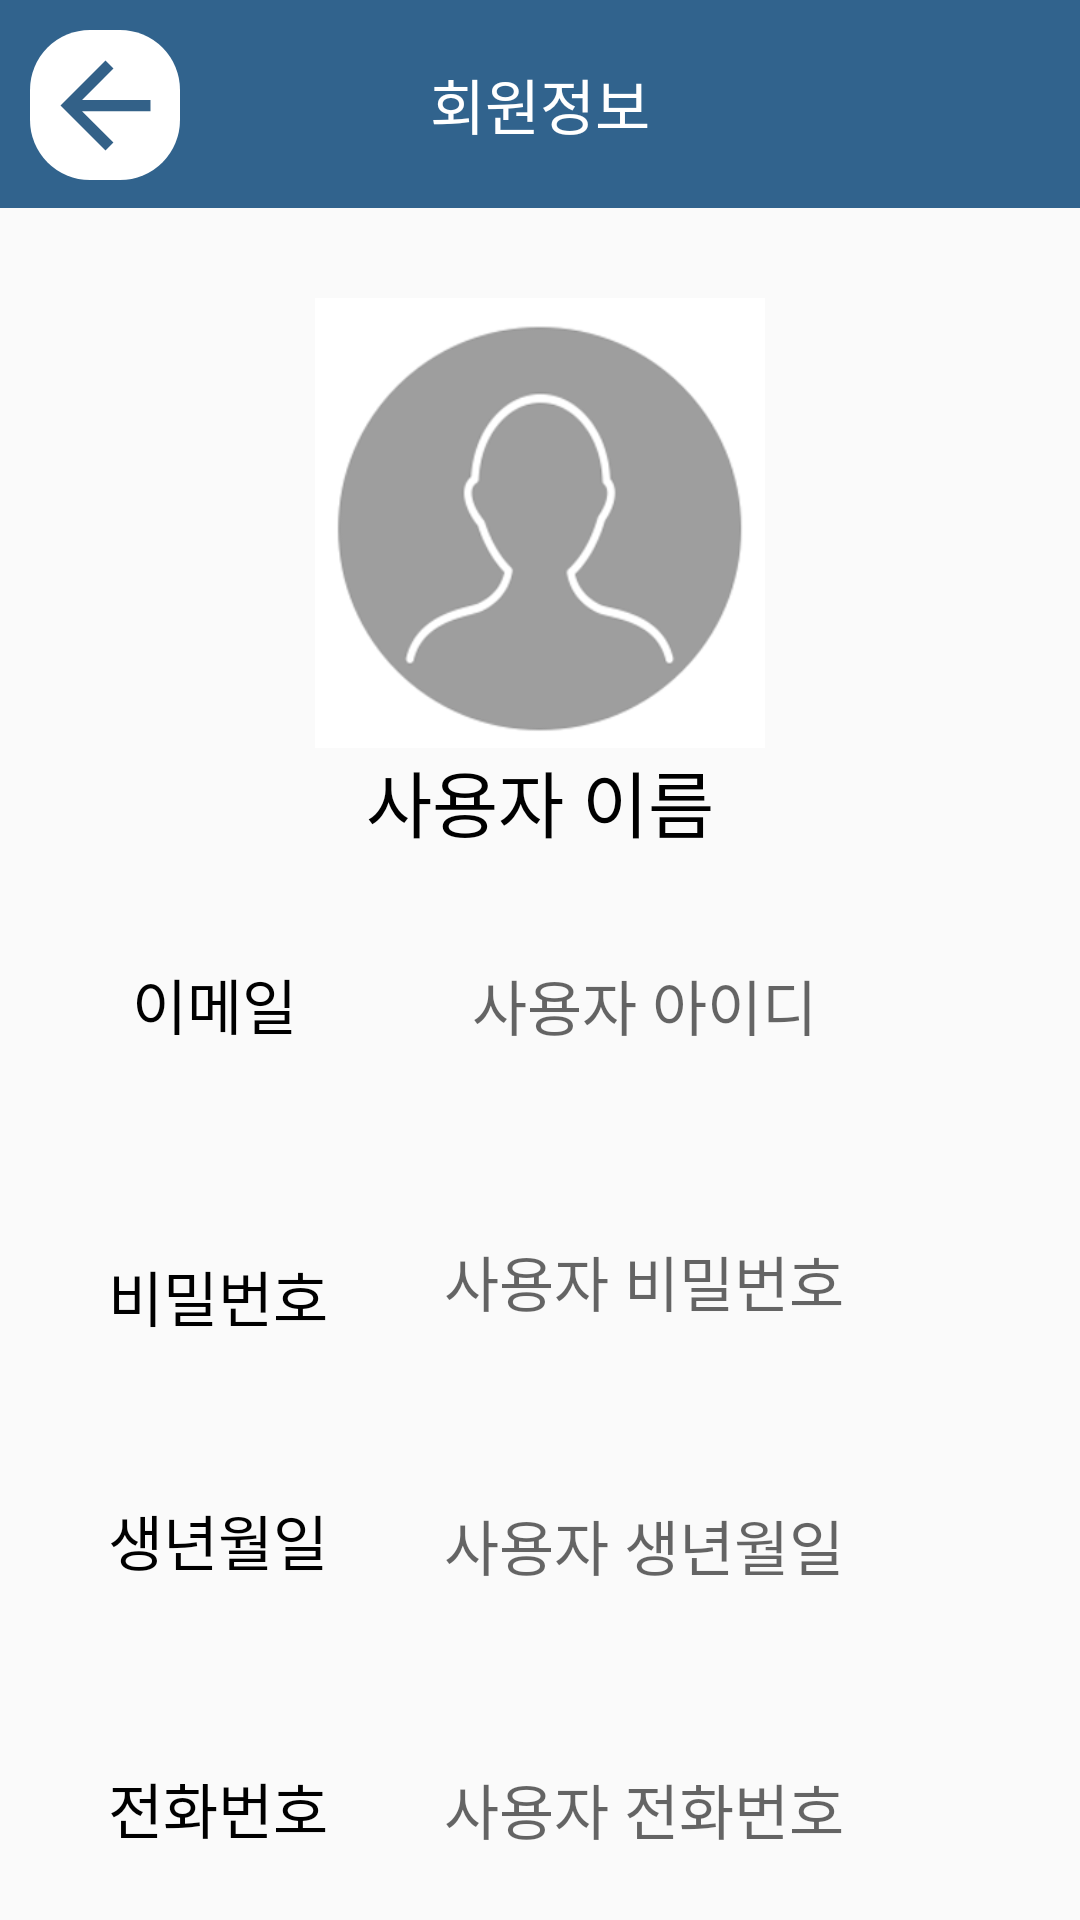

Screen size 1080x1920. Icon name, then its box in pixels as [x1=x1, y1=y1, x2=x2, y2=y2]:
back: [x1=30, y1=30, x2=180, y2=180]
